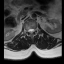CCS_normal: (30, 26, 32, 35)
LFS_normal: (34, 26, 36, 33)
LLS_normal: (32, 26, 34, 34)
RFS_normal: (25, 27, 28, 34)
RLS_normal: (28, 26, 30, 34)
